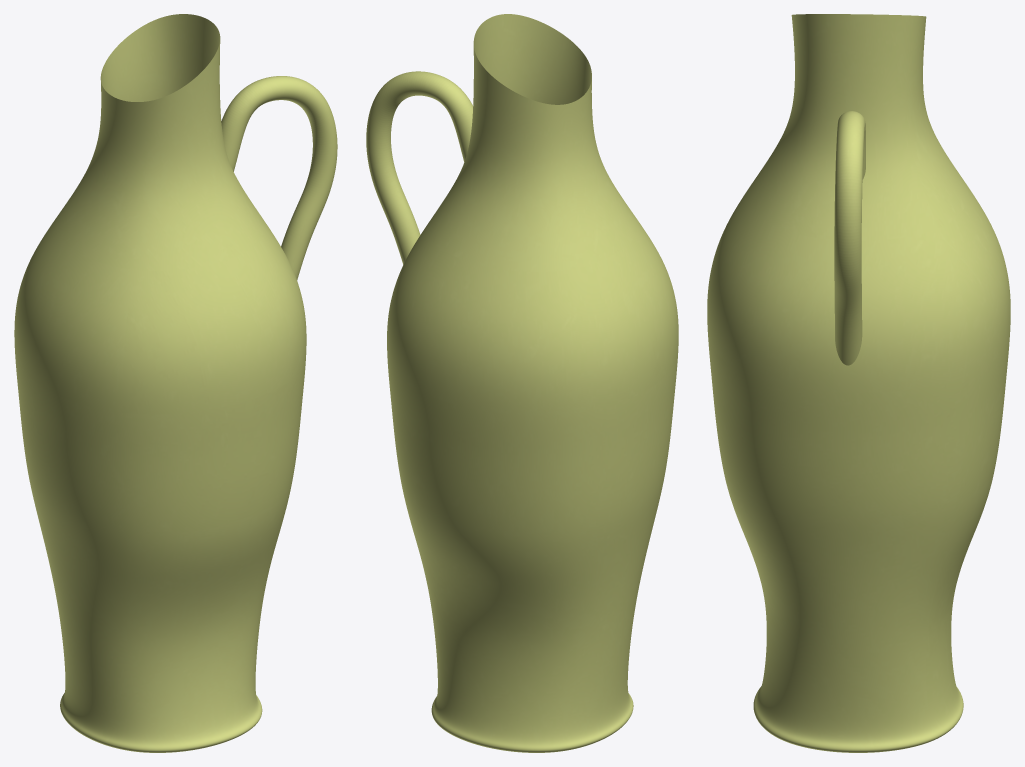
File: salotto_libreria_vaso.fbx
3 renders of one model, left to right at view 1: azimuth 30°, elevation 25°; view 2: azimuth 150°, elevation 25°; view 3: azimuth 270°, elevation 25°, orthographic. The views are drawn at different scales.
Parts seen in each view (by area): view 1: vaso manico; view 2: vaso manico; view 3: vaso manico.
Part boxes in pixels (x1,y1,x2,y2): vaso manico: (14, 14, 337, 752); vaso manico: (366, 14, 678, 752); vaso manico: (707, 14, 1010, 752).
Bounding box in the file's own units: 18.72 × 41.77 × 15.77.
Materials: 1 (1 with a texture image).
